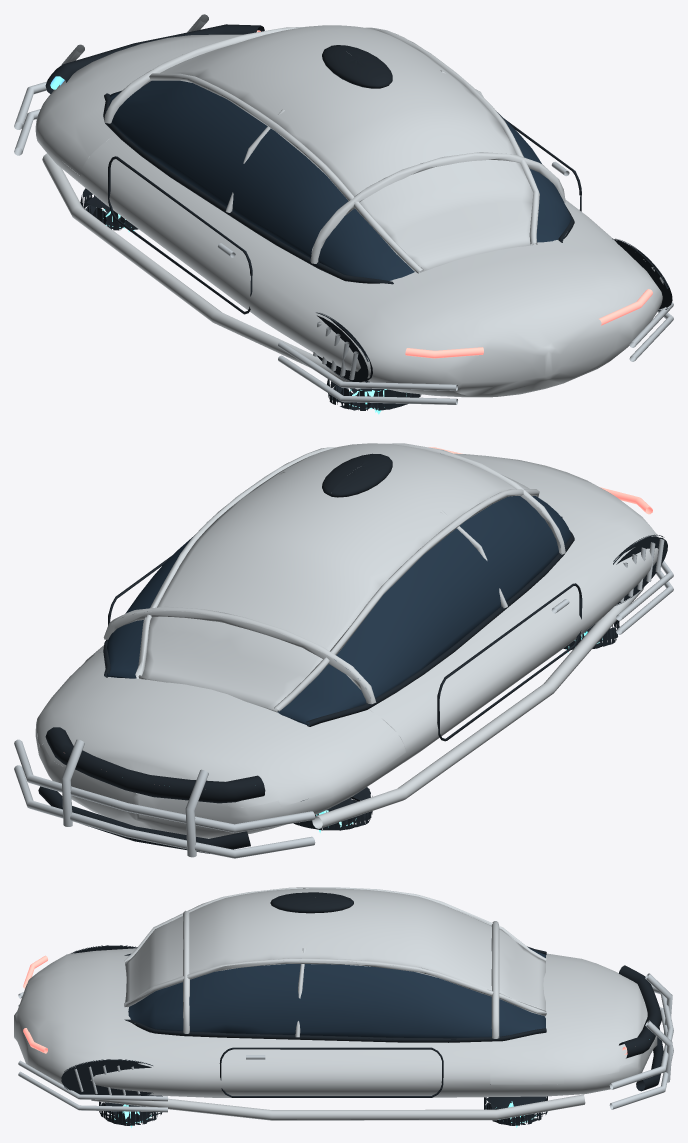
File: car_2.glb
3 views of the same model, one above another, from view 1: azimuth 30°, elevation 25°; view 2: azimuth 150°, elevation 25°; view 3: azimuth 270°, elevation 25° (orthographic). The views are drawn at different scales.
Visible parts, largest first — view 1: body; view 2: body; view 3: body.
Boxes of the visible parts, <box> form: body: <box>14,14,673,414</box>; body: <box>14,443,673,858</box>; body: <box>14,887,673,1127</box>.
Bounding box in the file's own units: 1.97 × 1.36 × 4.2.
